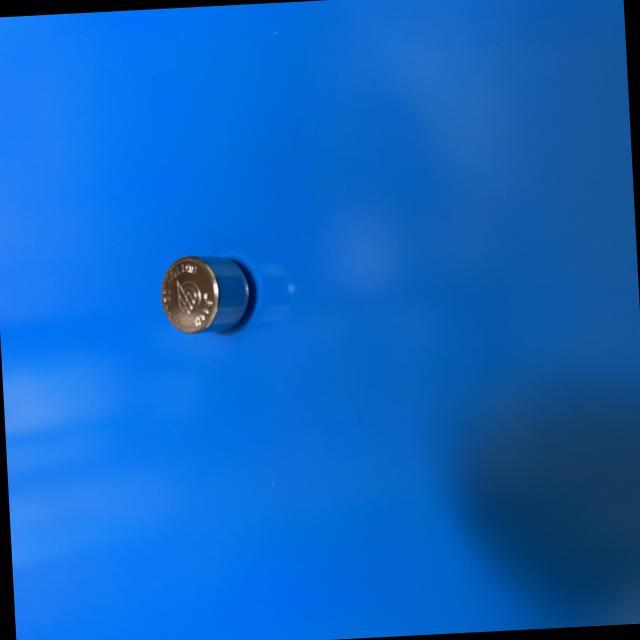COIN: (161, 254, 251, 336)
